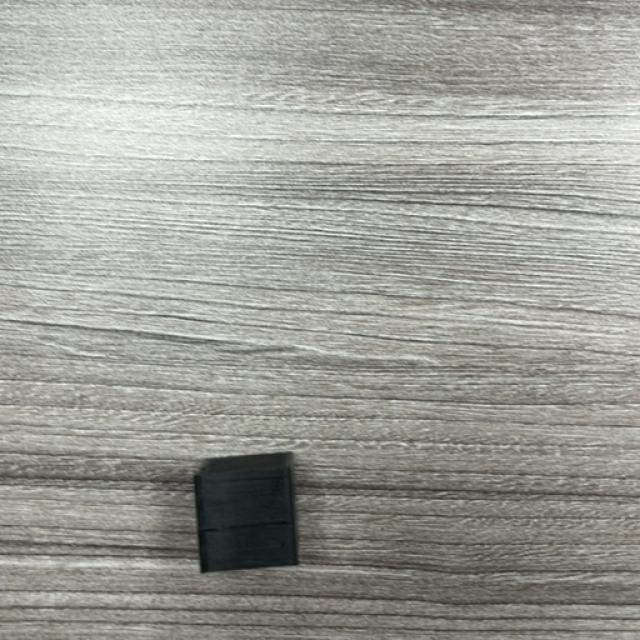Negro: (192, 452, 300, 575)
